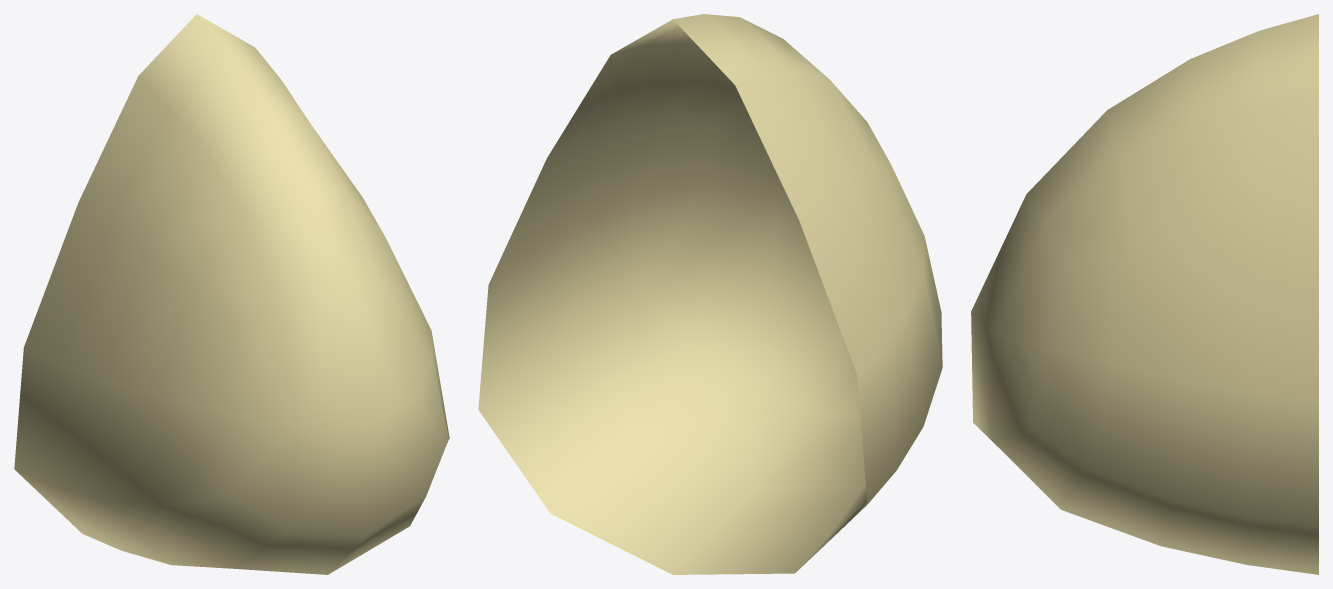
File: nose-0.fbx
The picture shows the model from 3 angles, left to right: view 1: azimuth 30°, elevation 25°; view 2: azimuth 150°, elevation 25°; view 3: azimuth 270°, elevation 25°; orthographic projection. The views are drawn at different scales.
Parts seen in each view (by area): view 1: Cube; view 2: Cube; view 3: Cube.
Part boxes in pixels (x1,y1,x2,y2): Cube: (14,14,449,574); Cube: (478,14,942,574); Cube: (971,14,1318,574).
Size of the model in its own units: 17.24 by 23.52 by 13.89.
